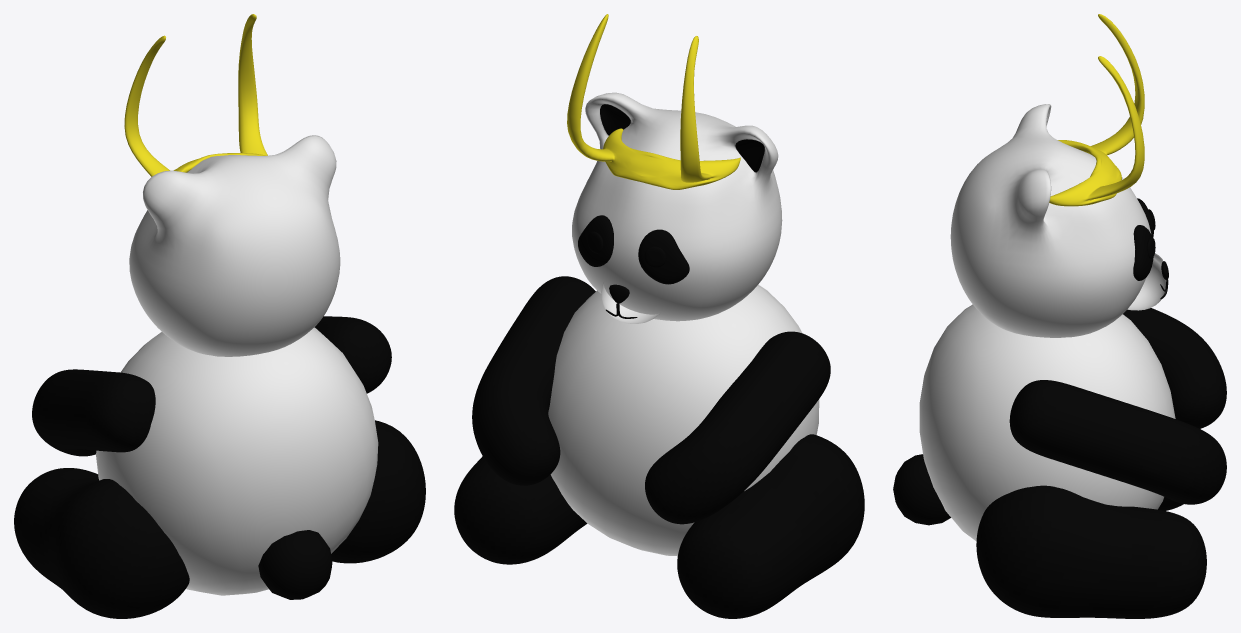
Rendered from panda-v77.glb.
3 views of the same model, side by side, from view 1: azimuth 30°, elevation 25°; view 2: azimuth 150°, elevation 25°; view 3: azimuth 270°, elevation 25° (orthographic). The views are drawn at different scales.
Parts seen in each view (by area): view 1: body, arms and legs, head, nose.001, Cube; view 2: arms and legs, body, head, nose.001, eyepatch, SNOUT, eyepatch.001; view 3: arms and legs, head, body, nose.001, Cube, SNOUT, eyepatch.
Part boxes in pixels (x1,y1,x2,y2): body: (96, 327, 378, 595); arms and legs: (14, 316, 425, 618); head: (129, 135, 340, 356); nose.001: (124, 14, 267, 176); Cube: (258, 530, 332, 599); arms and legs: (454, 276, 864, 618); body: (548, 284, 819, 555); head: (572, 92, 782, 321); nose.001: (567, 14, 740, 189); eyepatch: (578, 215, 689, 284); SNOUT: (601, 282, 660, 323); eyepatch.001: (587, 231, 666, 267); arms and legs: (976, 308, 1226, 618); head: (950, 104, 1151, 337); body: (919, 304, 1175, 541); nose.001: (1049, 14, 1144, 206); Cube: (893, 454, 950, 525); SNOUT: (1127, 253, 1166, 310); eyepatch: (1133, 198, 1153, 280).
Bounding box in the file's own units: 2.74 × 4.02 × 2.32.
